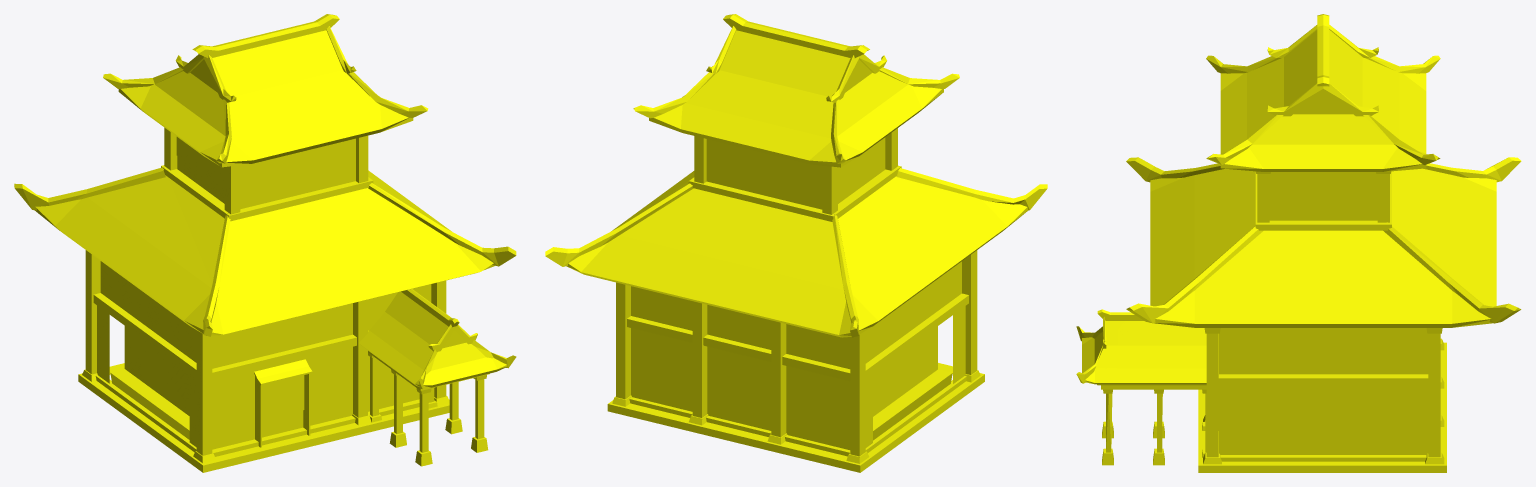
The model's file is b1-011-workhouse_lod_01.glb.
3 renders of one model, left to right at view 1: azimuth 30°, elevation 25°; view 2: azimuth 150°, elevation 25°; view 3: azimuth 270°, elevation 25°, orthographic.
Parts seen in each view (by area): view 1: b1-011-workhouse-01, b1-011-workhouse-02, b1-011-workhouse-03; view 2: b1-011-workhouse-01, b1-011-workhouse-02, b1-011-workhouse-03; view 3: b1-011-workhouse-01, b1-011-workhouse-02, b1-011-workhouse-03.
Part boxes in pixels (x1,y1,x2,y2): b1-011-workhouse-01: (14, 14, 516, 466); b1-011-workhouse-02: (97, 137, 431, 449); b1-011-workhouse-03: (78, 165, 507, 472); b1-011-workhouse-01: (545, 14, 1047, 463); b1-011-workhouse-02: (631, 137, 965, 449); b1-011-workhouse-03: (607, 165, 984, 472); b1-011-workhouse-01: (1076, 14, 1521, 465); b1-011-workhouse-02: (1218, 172, 1428, 454); b1-011-workhouse-03: (1082, 171, 1446, 472).
Bounding box in the file's own units: 19.35 × 21.77 × 24.04.
3 materials, 3 textured.
